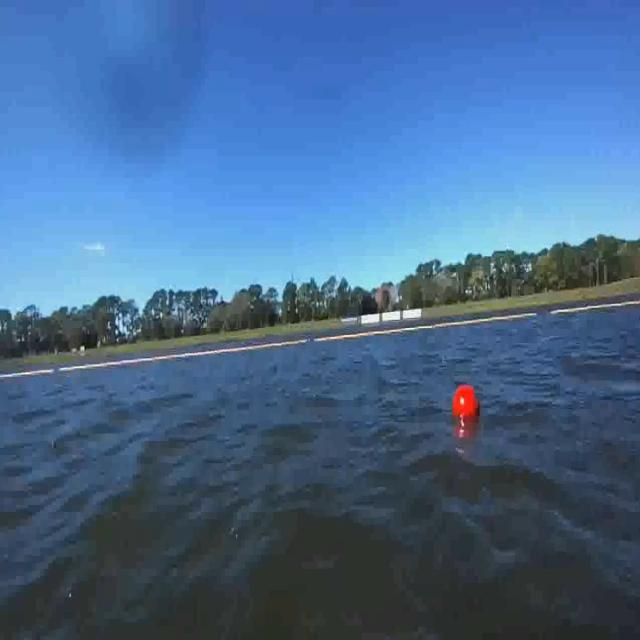red-buoy: (453, 386, 479, 424)
